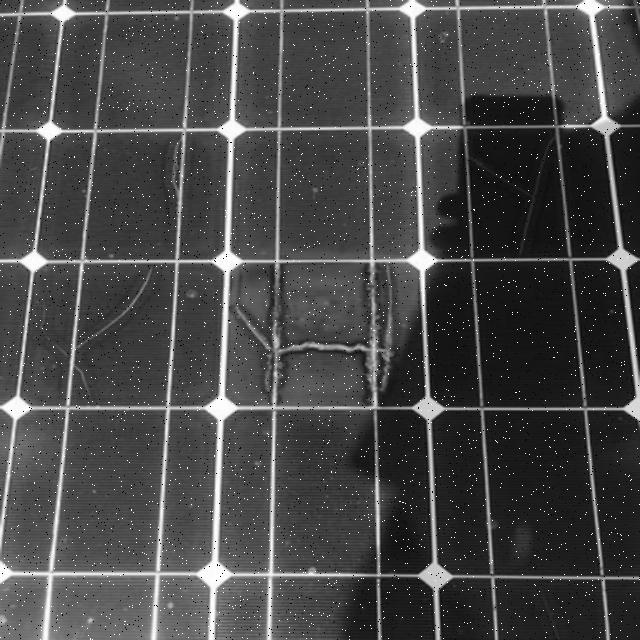electrical damage: (144, 241, 486, 435)
